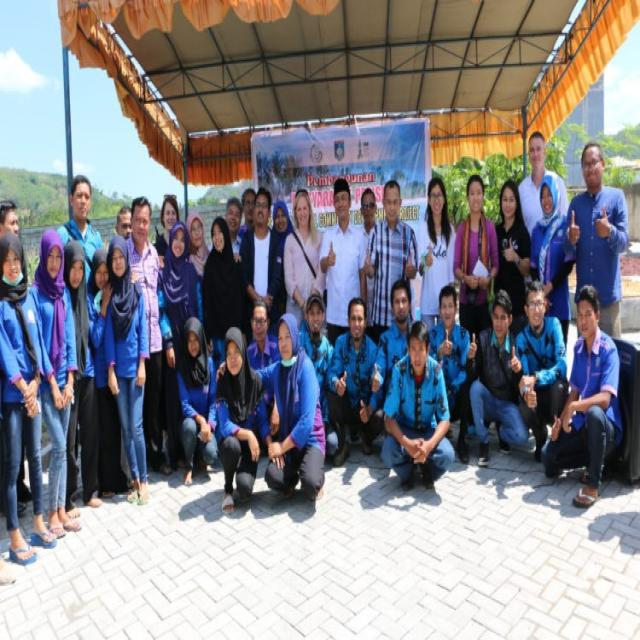body: (102, 450, 639, 556), (213, 308, 327, 504), (0, 230, 58, 568), (542, 280, 625, 509), (26, 225, 83, 540), (214, 324, 288, 518), (560, 139, 630, 340), (101, 234, 151, 506), (379, 318, 456, 491), (153, 219, 204, 469), (465, 286, 531, 468), (62, 237, 104, 522), (86, 246, 130, 501), (124, 194, 164, 474), (513, 276, 571, 465), (323, 296, 386, 469), (362, 178, 420, 347), (527, 172, 577, 353), (318, 176, 369, 352), (451, 172, 501, 344), (426, 283, 472, 465), (174, 313, 220, 488), (237, 184, 284, 348), (200, 213, 248, 373), (296, 292, 340, 459), (414, 175, 456, 330), (282, 186, 328, 327), (515, 128, 572, 239), (368, 278, 414, 406), (56, 173, 104, 293), (492, 178, 532, 318), (262, 198, 295, 336), (244, 297, 283, 408), (259, 158, 332, 193), (153, 192, 182, 269), (182, 209, 210, 275), (352, 185, 380, 245), (221, 195, 244, 263), (236, 185, 258, 240), (0, 197, 20, 243), (115, 204, 133, 244), (86, 216, 90, 225)
